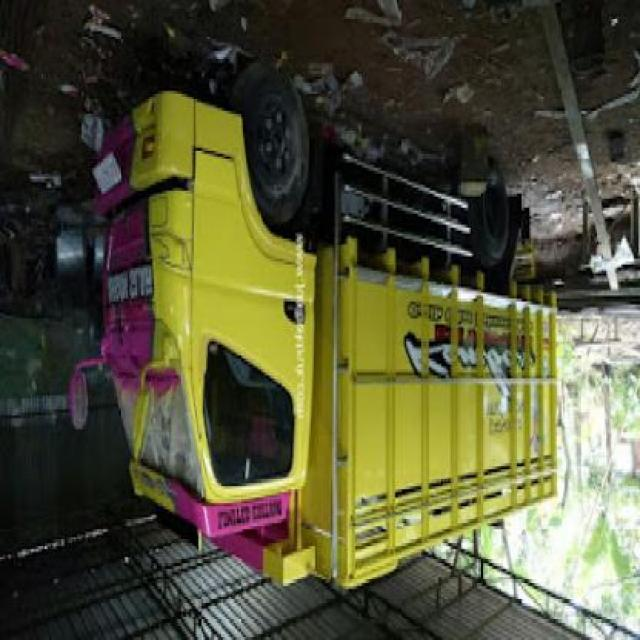truck: (70, 78, 558, 607)
